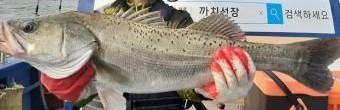fish: (0, 10, 339, 109)
